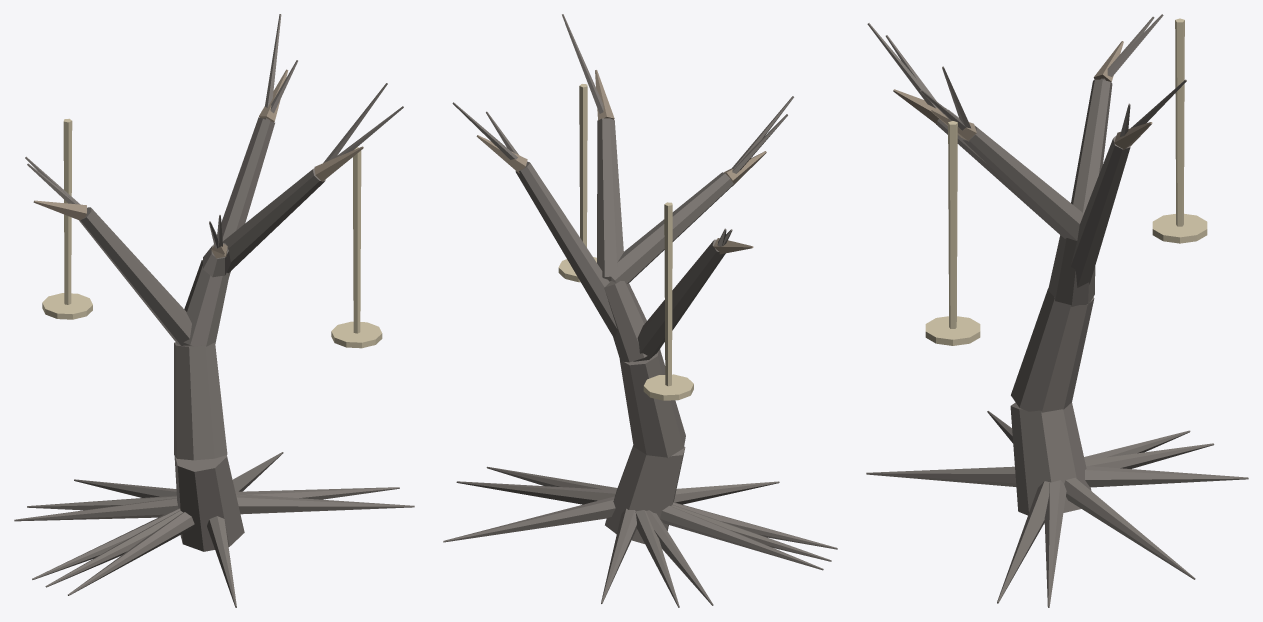
The model's file is noose_oak.glb.
The picture shows the model from 3 angles, left to right: view 1: azimuth 30°, elevation 25°; view 2: azimuth 150°, elevation 25°; view 3: azimuth 270°, elevation 25°; orthographic projection. The views are drawn at different scales.
Parts seen in each view (by area): view 1: noose_oak_material_00, noose_oak_material_02, noose_oak_material_01; view 2: noose_oak_material_00, noose_oak_material_02, noose_oak_material_01; view 3: noose_oak_material_00, noose_oak_material_02, noose_oak_material_01.
Boxes of the visible parts, x1,y1,x2,y2 form: noose_oak_material_00: [14, 14, 414, 607]; noose_oak_material_02: [42, 118, 382, 348]; noose_oak_material_01: [33, 69, 363, 258]; noose_oak_material_00: [443, 14, 837, 607]; noose_oak_material_02: [558, 84, 693, 400]; noose_oak_material_01: [476, 70, 766, 254]; noose_oak_material_00: [866, 14, 1248, 607]; noose_oak_material_02: [925, 18, 1207, 345]; noose_oak_material_01: [893, 41, 1152, 149].
Size of the model in its own units: 2.5 by 2.99 by 2.01.
